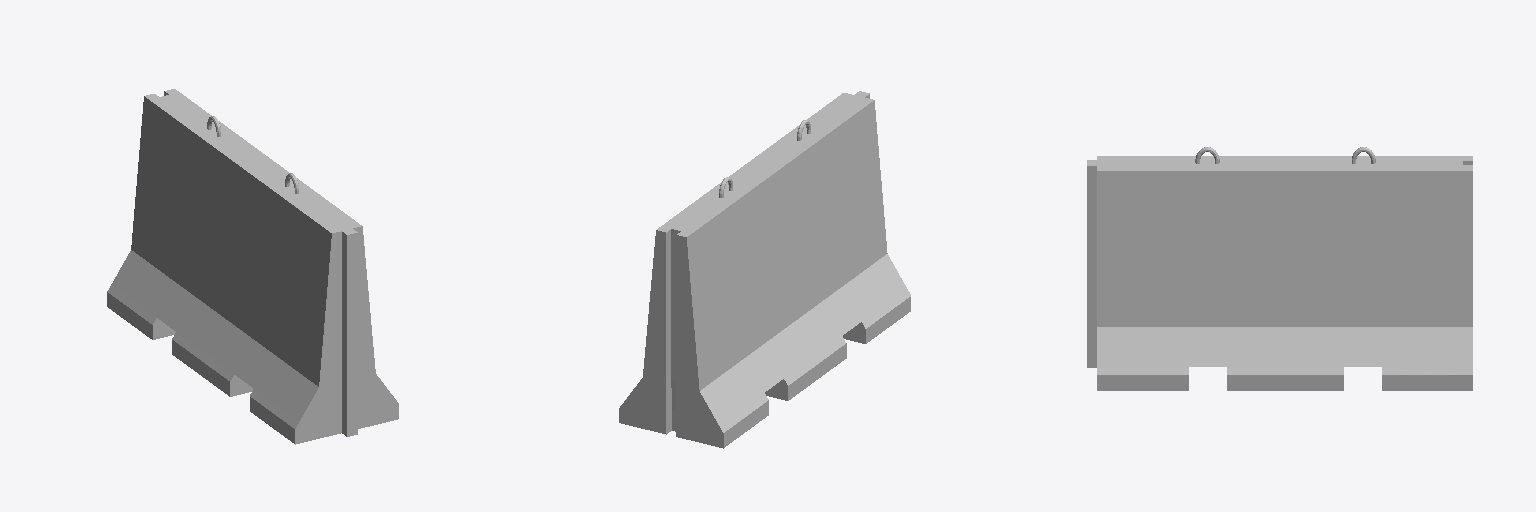
File: concrete-barricade.obj
3 views of the same model, side by side, from view 1: azimuth 30°, elevation 25°; view 2: azimuth 150°, elevation 25°; view 3: azimuth 270°, elevation 25° (orthographic).
Parts seen in each view (by area): view 1: Concrete_Barricade_LP; view 2: Concrete_Barricade_LP; view 3: Concrete_Barricade_LP.
Boxes of the visible parts, <box> form: Concrete_Barricade_LP: <box>107,89,398,444</box>; Concrete_Barricade_LP: <box>619,91,910,448</box>; Concrete_Barricade_LP: <box>1087,147,1472,390</box>.
Bounding box in the file's own units: 4.27 × 8.53 × 13.69.